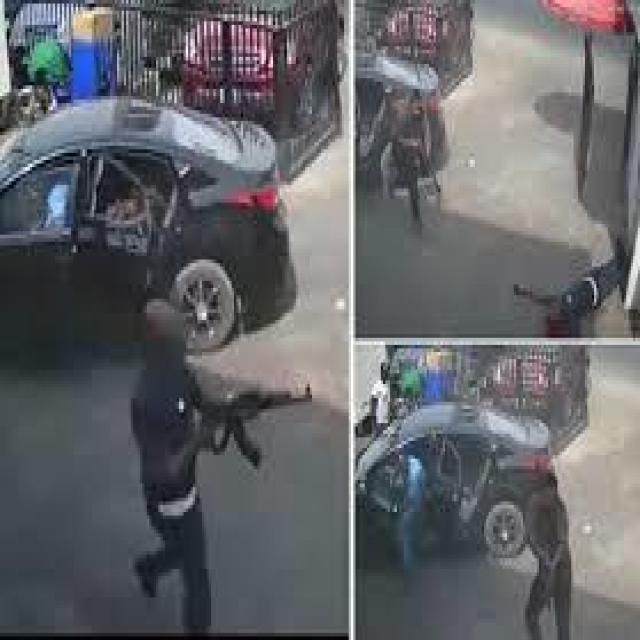weapon: (183, 376, 314, 469), (412, 132, 448, 200)
